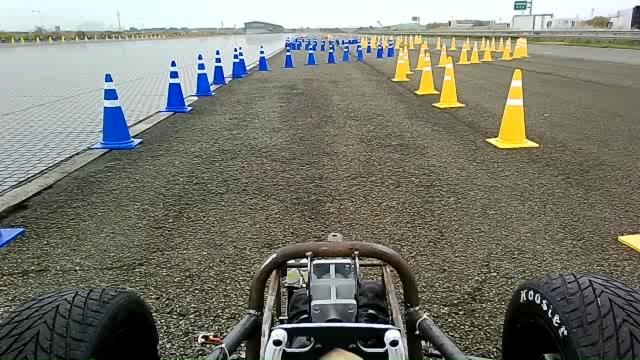blue cone: (90, 73, 142, 150), (158, 60, 192, 112), (188, 54, 216, 96), (211, 49, 229, 85), (229, 47, 245, 78), (235, 46, 249, 74)
yellow cone: (486, 68, 540, 148), (438, 54, 462, 111), (418, 54, 438, 104)
